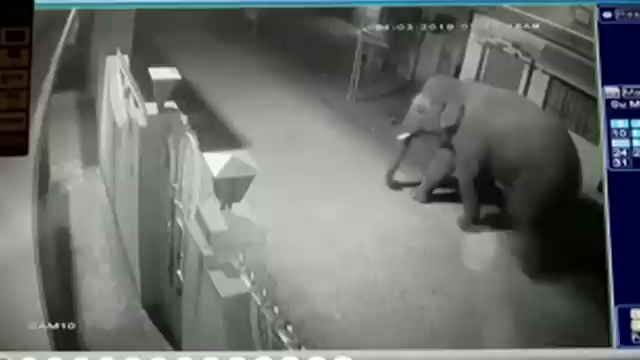Elephant: (385, 75, 582, 279)
